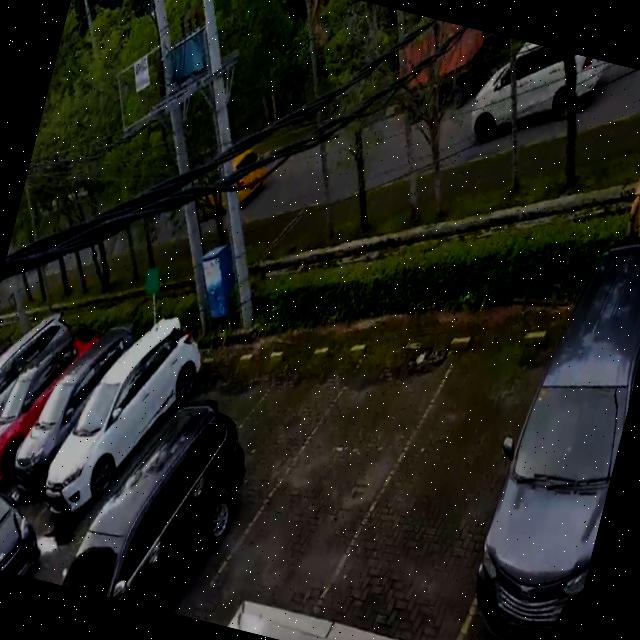empty: (344, 309, 539, 640), (256, 323, 424, 624), (186, 338, 318, 596)
occupied: (454, 330, 640, 640)
